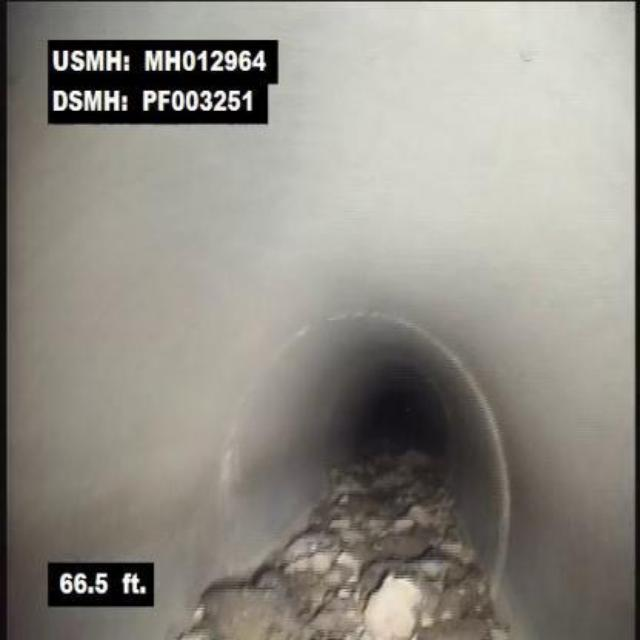Obstacle: (182, 451, 383, 638), (382, 455, 497, 638)
